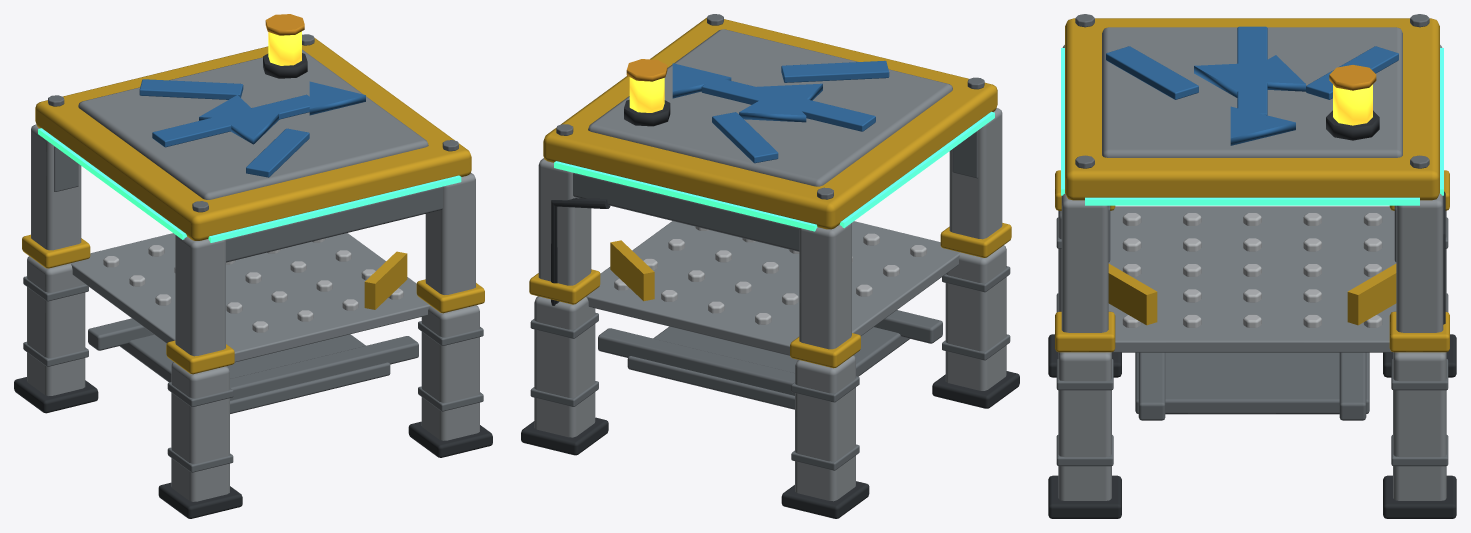
The model's file is fw_merge.glb.
3 renders of one model, left to right at view 1: azimuth 30°, elevation 25°; view 2: azimuth 150°, elevation 25°; view 3: azimuth 270°, elevation 25°, orthographic. The views are drawn at different scales.
Parts seen in each view (by area): view 1: block.033, block.034, block.023, block.001, block.011, block.006, block.025, block.024, block.035, block.029, block.027, block.021 (+26 smaller); view 2: block.033, block.023, block.034, block.006, block.016, block.001, block.027, block.024, block.036, block.031, block.025, block.022 (+27 smaller); view 3: block.023, block.033, block.034, block.024, block.011, block.016, block.029, block.031, led.003, block.039, block.038, bar (+22 smaller).
Boxes of the visible parts, x1,y1,x2,y2 form: block.033: (35,37,471,240); block.034: (78,49,428,199); block.023: (71,233,430,362); block.001: (171,362,229,501); block.011: (421,305,479,440); block.006: (27,256,85,395); block.025: (175,235,225,356); block.024: (119,334,390,413); block.035: (225,186,442,262); block.029: (425,173,475,294); block.027: (31,124,81,250); block.021: (230,336,418,400); block.033: (543,17,997,229); block.023: (586,221,960,355); block.034: (588,29,952,186); block.006: (795,355,855,501); block.016: (534,296,595,437); block.001: (945,245,1006,390); block.027: (799,223,851,349); block.024: (627,326,909,409); block.036: (573,173,799,251); block.031: (538,158,591,285); block.025: (949,108,1002,239); block.022: (598,328,794,395); block.023: (1108,206,1396,352); block.033: (1065,18,1439,200); block.034: (1102,27,1402,157); block.024: (1135,352,1369,414); block.011: (1058,352,1111,500); block.016: (1393,352,1446,500); block.029: (1061,194,1108,332); block.031: (1396,194,1443,332); led.003: (1085,197,1419,205); block.039: (1237,26,1267,115); block.038: (1106,46,1198,99); bar: (1108,263,1157,325).
Size of the model in its own units: 1.22 by 1.33 by 1.22.
